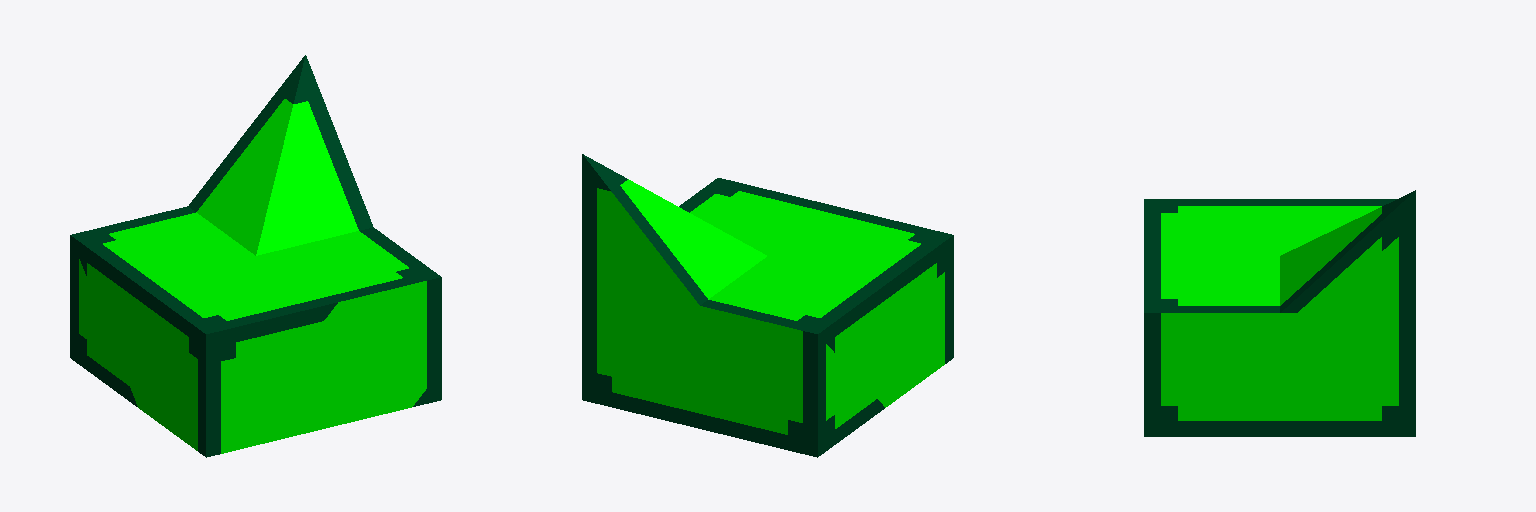
3 renders of one model, left to right at view 1: azimuth 30°, elevation 25°; view 2: azimuth 150°, elevation 25°; view 3: azimuth 270°, elevation 25°, orthographic.
Visible parts, largest first — view 1: 12_green; view 2: 12_green; view 3: 12_green.
Part boxes in pixels (x1,y1,x2,y2): 12_green: (70,55,441,457); 12_green: (582,154,953,457); 12_green: (1144,190,1415,436).
Bounding box in the file's own units: 1 × 1 × 1.
1 materials, 1 textured.